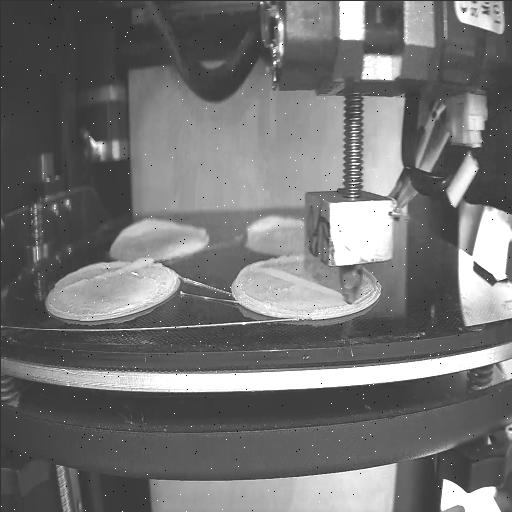over_extrusion: (248, 262, 342, 300), (62, 252, 154, 290), (110, 214, 209, 246), (241, 210, 302, 244)
